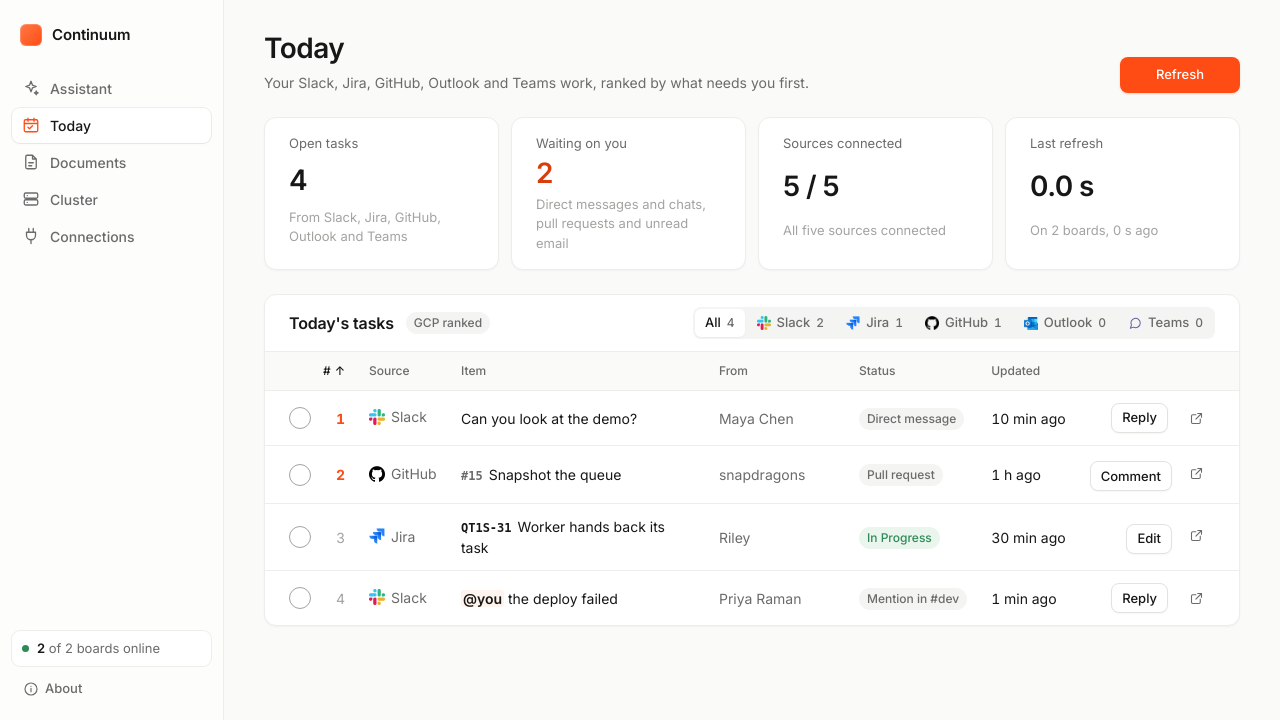
Scenario: Today refresh › loads a source itself when the boards have no list from it
Expected: the row "Worker hands back its task" is shown, [265,504,1239,571]
Click the button "Refresh". click: (1180, 75)
box: [1120,57,1240,93]
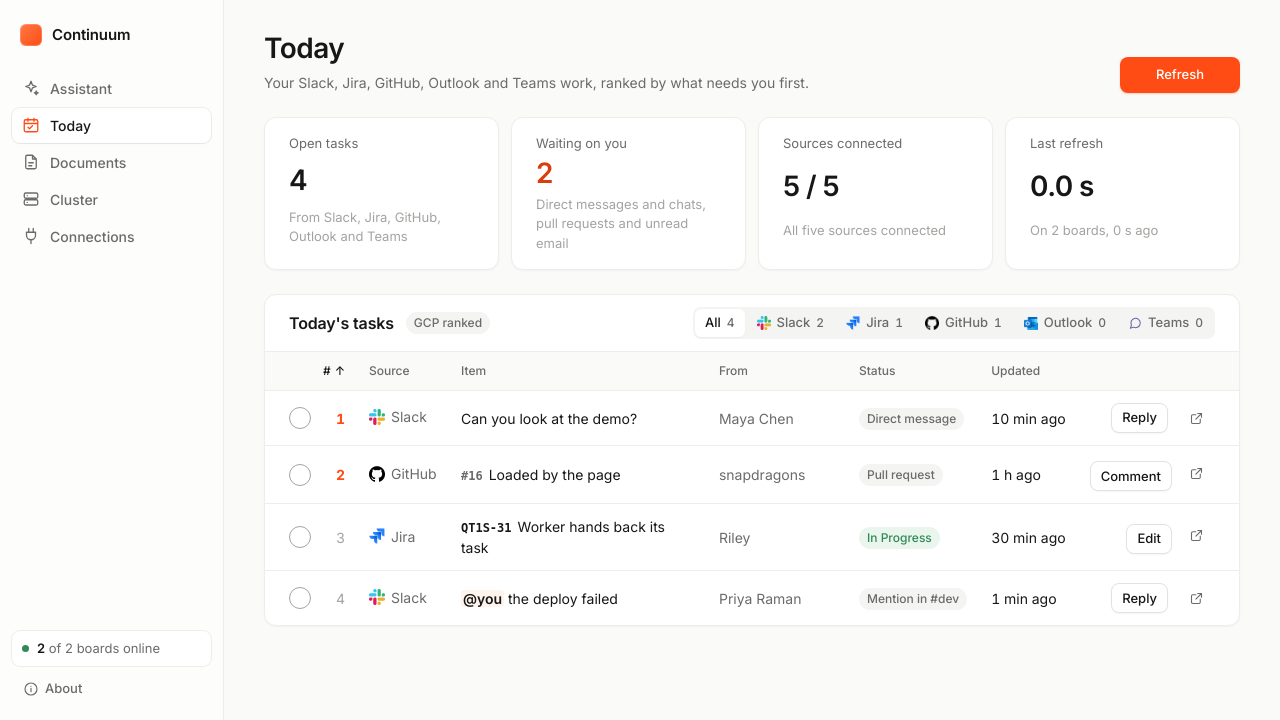
Expected: the row "Loaded by the page" is shown, [265,446,1239,504]
